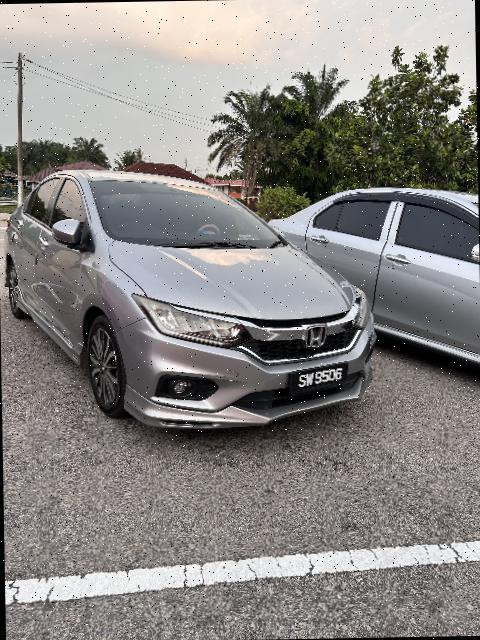License_Plate: (289, 363, 352, 398)
SW9506: (289, 363, 352, 398)
car: (7, 155, 381, 442), (267, 175, 480, 385)
